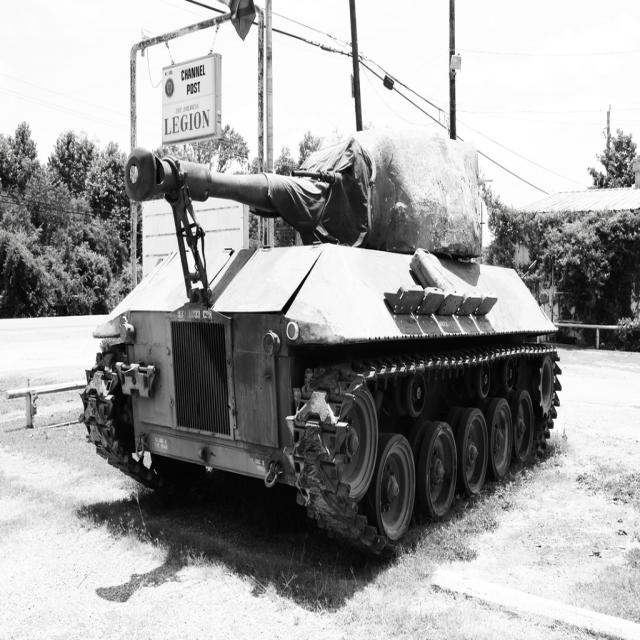tank: (80, 128, 563, 562)
